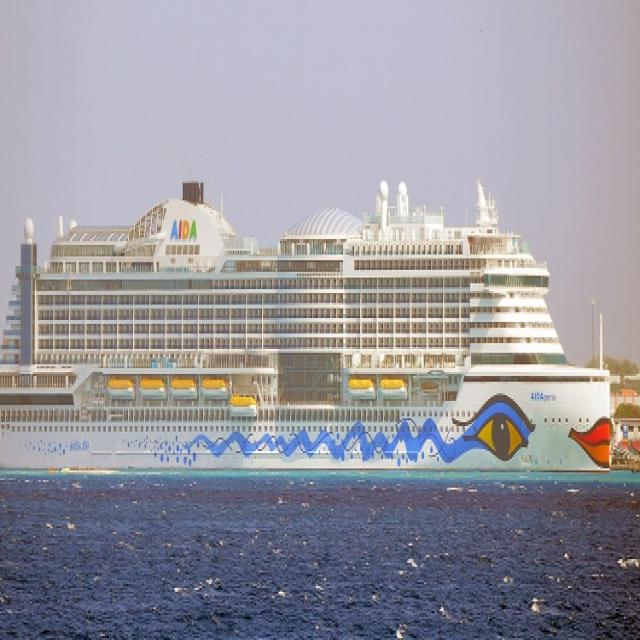cruises: (1, 168, 627, 502)
